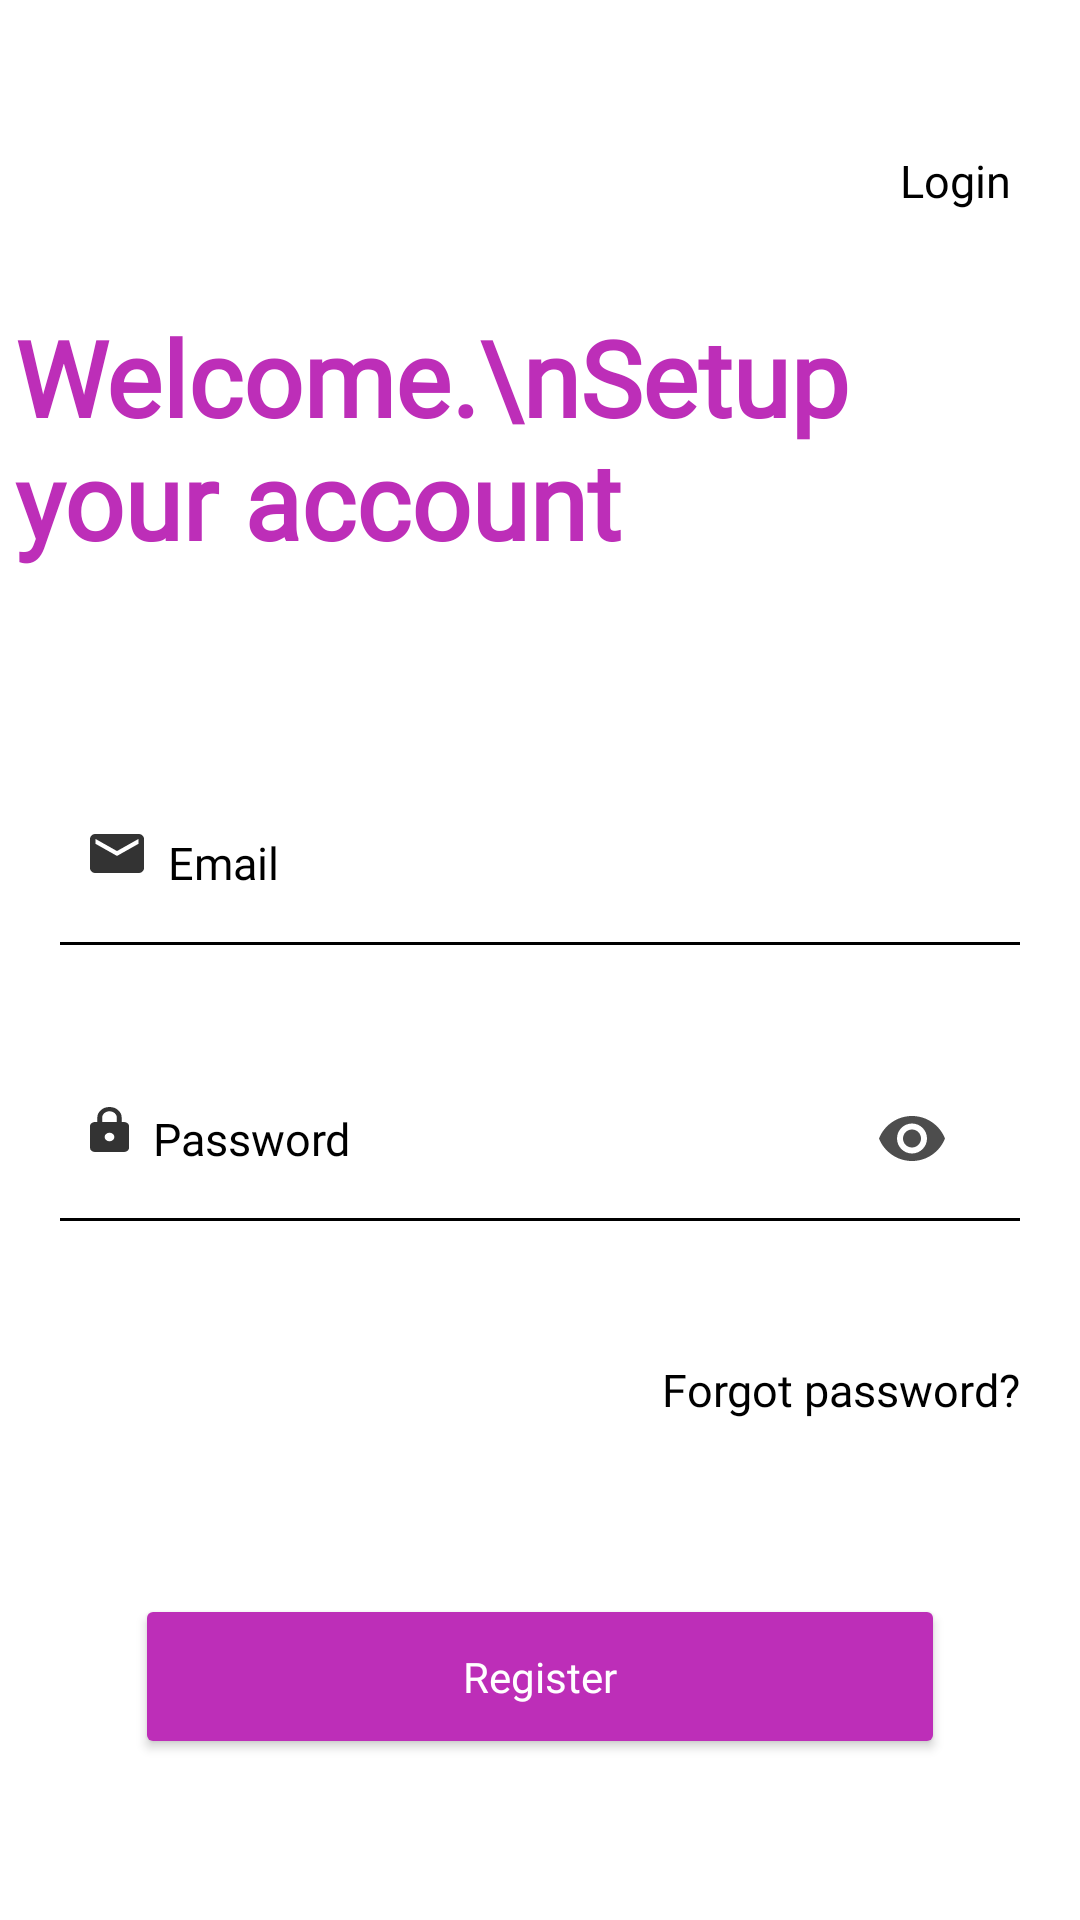

Icons on this 1080*1920 Android screen, each with the point to tap as [x,y]:
eye: [912,1138]
lock: [109,1129]
